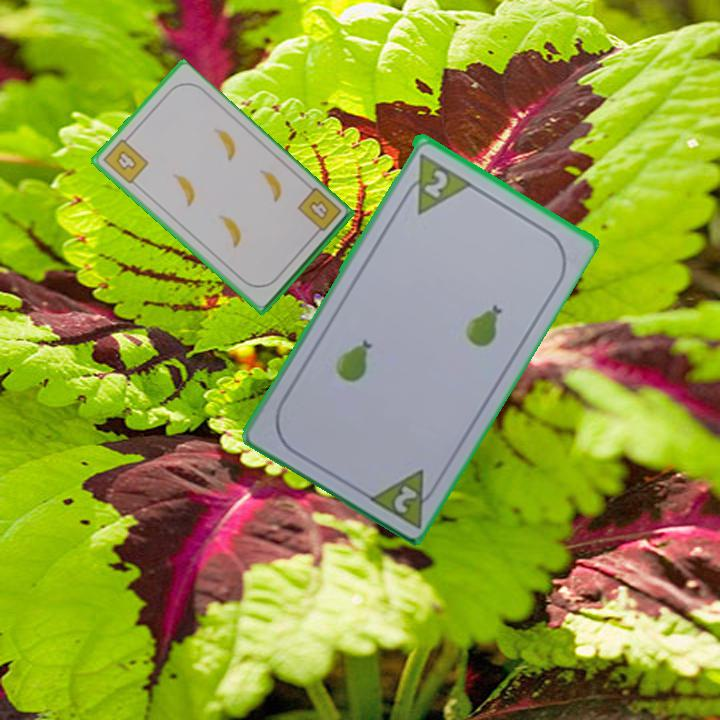2p: (420, 165, 451, 201), (389, 481, 420, 516)
4b: (99, 132, 151, 187), (293, 184, 344, 240)
